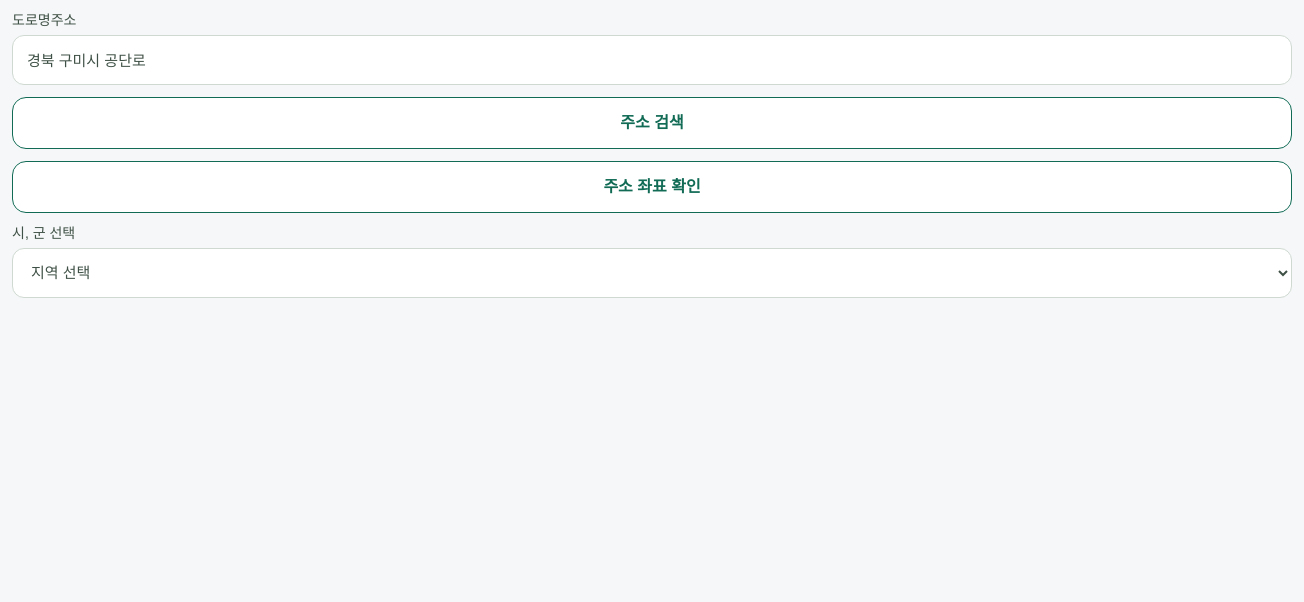
Test: QA 9 좌표 성공 후에도 지역 목록과 자동 선택, 좌표 결과 글자
The width and height of the screenshot is (1304, 602).
Click the button "주소 좌표 확인": [652, 187] box [12,161,1292,213]
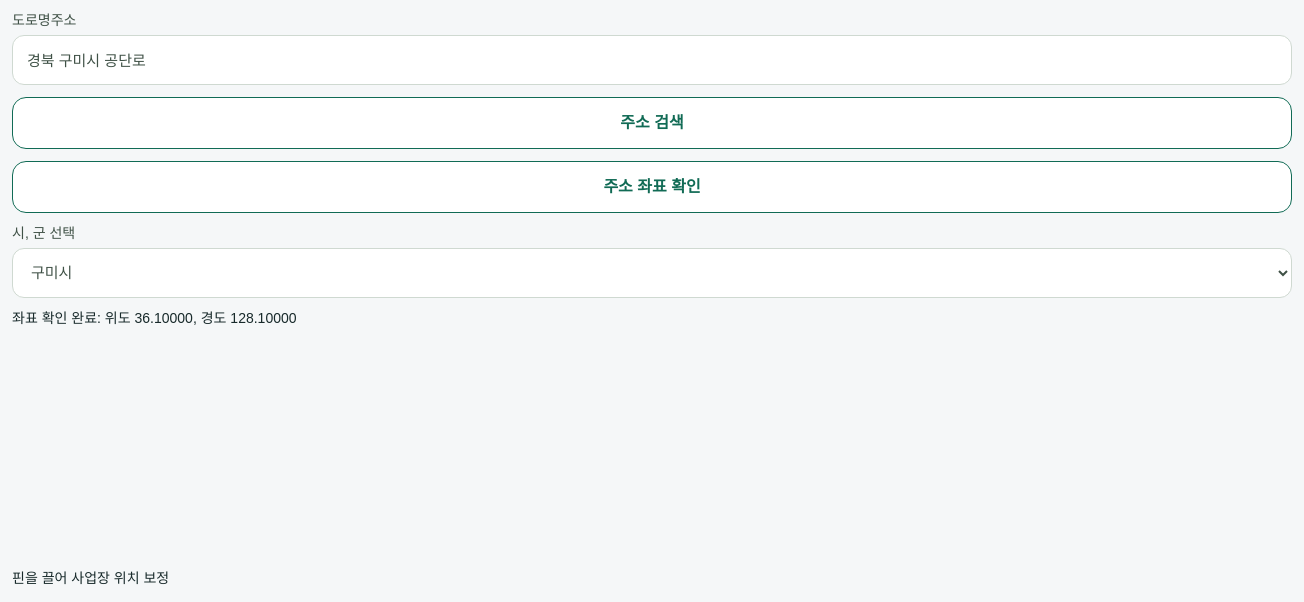
Expected: the dropdown labelled "시, 군 선택" shows "구미시", [12,248,1292,298]
Expected: the text "좌표 확인 완료: 위도 36.10000, 경도 128.10000" is shown, [12,310,296,326]
Clear the field labelled "도로명주소": [652, 60] box [12,35,1292,85]
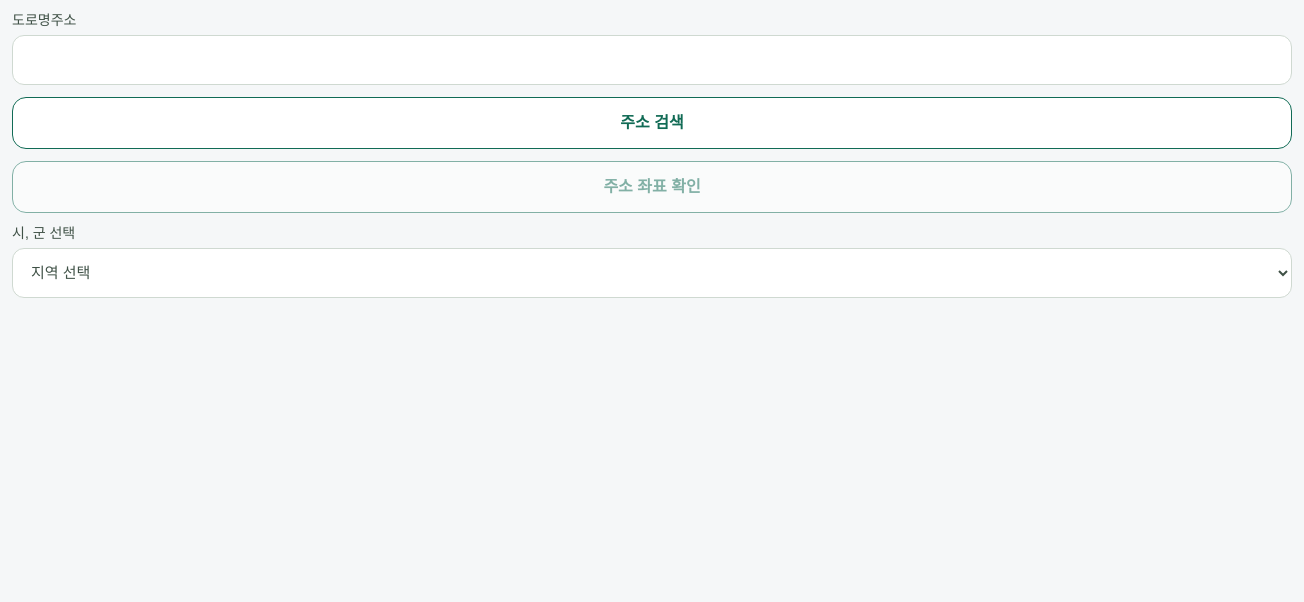
Expected: the button "주소 좌표 확인" is disabled, [12,161,1292,213]
